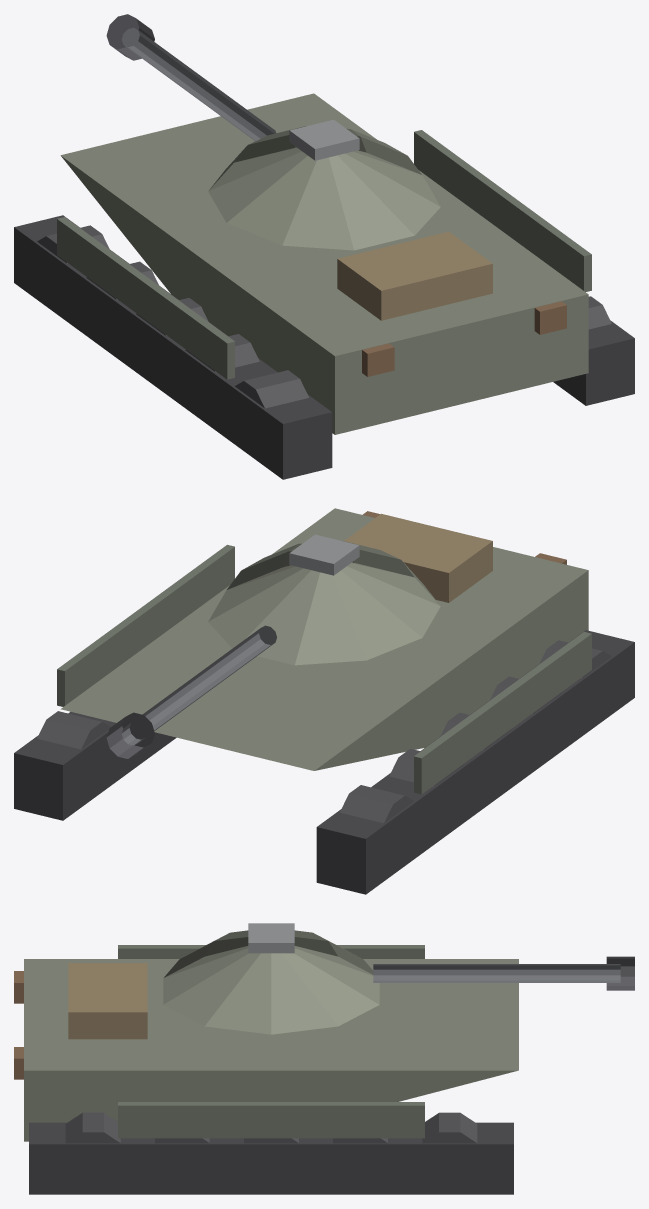
File: soviet_antiair.glb
3 views of the same model, one above another, from view 1: azimuth 30°, elevation 25°; view 2: azimuth 150°, elevation 25°; view 3: azimuth 270°, elevation 25° (orthographic). The views are drawn at different scales.
Visible parts, largest first — view 1: hull, track_l, turret, stowage, skirt_l, skirt_r, track_r, barrel, hatch, wheel_l01, muzzle, exhaust_l (+2 smaller); view 2: hull, track_l, turret, skirt_l, track_r, skirt_r, stowage, barrel, hatch, wheel_l05, wheel_r05, muzzle (+1 smaller); view 3: hull, track_r, turret, skirt_r, stowage, barrel, skirt_l, wheel_r01, wheel_r05, hatch, muzzle.
Part boxes in pixels (bbox=[...]): hull: bbox=[60, 93, 588, 434]; track_l: bbox=[14, 215, 332, 479]; turret: bbox=[208, 126, 440, 250]; stowage: bbox=[337, 231, 492, 320]; skirt_l: bbox=[57, 217, 234, 379]; skirt_r: bbox=[414, 130, 591, 291]; track_r: bbox=[553, 320, 634, 405]; barrel: bbox=[121, 27, 275, 141]; hatch: bbox=[289, 119, 359, 160]; wheel_l01: bbox=[235, 370, 308, 408]; muzzle: bbox=[106, 14, 154, 60]; exhaust_l: bbox=[362, 343, 394, 376]; hull: bbox=[60, 508, 588, 770]; track_l: bbox=[316, 630, 634, 894]; turret: bbox=[208, 541, 440, 665]; skirt_l: bbox=[414, 632, 591, 794]; track_r: bbox=[14, 711, 176, 820]; skirt_r: bbox=[57, 544, 234, 706]; stowage: bbox=[344, 513, 492, 602]; barrel: bbox=[121, 625, 276, 745]; hatch: bbox=[289, 534, 359, 575]; wheel_l05: bbox=[340, 785, 413, 823]; wheel_r05: bbox=[37, 711, 110, 749]; muzzle: bbox=[106, 712, 154, 758]; hull: bbox=[24, 959, 518, 1141]; track_r: bbox=[29, 1122, 513, 1194]; turret: bbox=[163, 930, 379, 1034]; skirt_r: bbox=[118, 1102, 424, 1138]; stowage: bbox=[68, 963, 147, 1039]; barrel: bbox=[373, 964, 620, 982]; skirt_l: bbox=[118, 945, 424, 958]; wheel_r01: bbox=[65, 1112, 120, 1143]; wheel_r05: bbox=[422, 1112, 477, 1143]; hatch: bbox=[248, 923, 294, 953]; muzzle: bbox=[606, 956, 634, 990].
Bounding box in the file's own units: 4.6 × 2.46 × 7.52.
